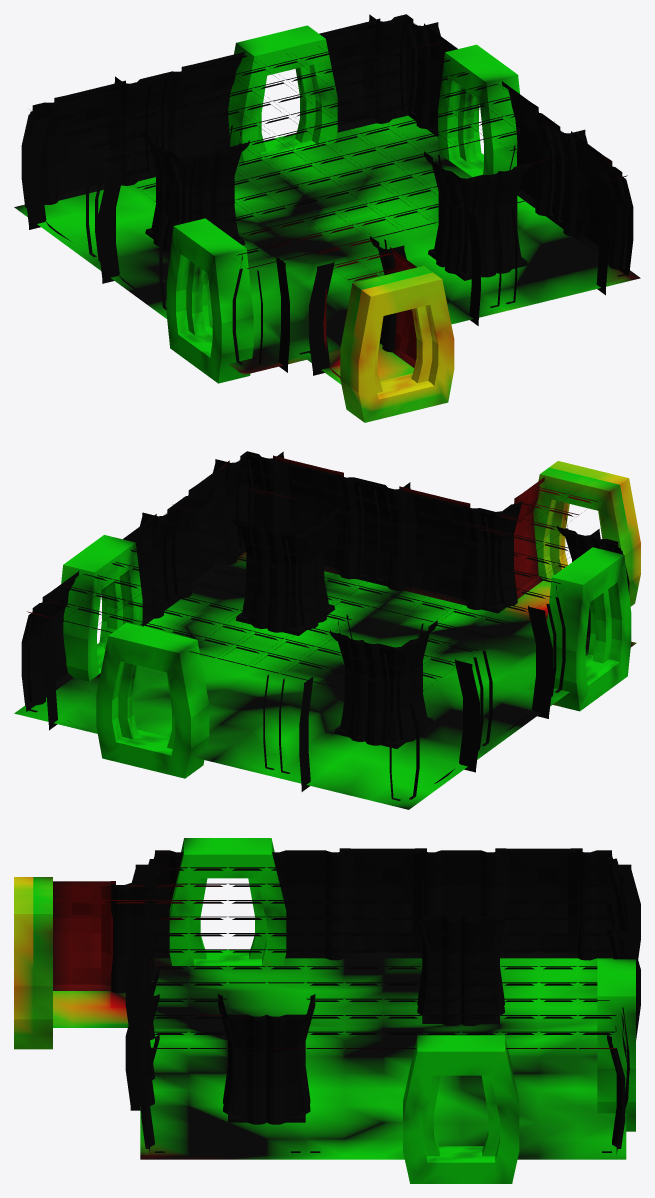
Rendered from base_entrance.glb.
3 renders of one model, top to bottom at view 1: azimuth 30°, elevation 25°; view 2: azimuth 150°, elevation 25°; view 3: azimuth 270°, elevation 25°, orthographic. The views are drawn at different scales.
Visible parts, largest first — view 1: Base_Entrance_Floor, Base_Entrance_Wall_Panels, Base_Entrance_Doorframes, Base_Entrance_Stone_Wall, Base_Entrance_Ceiling; view 2: Base_Entrance_Floor, Base_Entrance_Wall_Panels, Base_Entrance_Doorframes, Base_Entrance_Stone_Wall, Base_Entrance_Ceiling; view 3: Base_Entrance_Floor, Base_Entrance_Wall_Panels, Base_Entrance_Doorframes, Base_Entrance_Stone_Wall, Base_Entrance_Ceiling.
Boxes of the visible parts, x1,y1,x2,y2 form: Base_Entrance_Floor: [14, 115, 640, 384]; Base_Entrance_Wall_Panels: [21, 14, 633, 375]; Base_Entrance_Doorframes: [166, 25, 519, 422]; Base_Entrance_Stone_Wall: [39, 18, 612, 377]; Base_Entrance_Ceiling: [33, 16, 627, 281]; Base_Entrance_Floor: [14, 552, 636, 809]; Base_Entrance_Wall_Panels: [21, 451, 629, 800]; Base_Entrance_Doorframes: [61, 461, 640, 778]; Base_Entrance_Stone_Wall: [42, 455, 544, 783]; Base_Entrance_Ceiling: [27, 453, 618, 704]; Base_Entrance_Floor: [53, 958, 626, 1159]; Base_Entrance_Wall_Panels: [111, 850, 640, 1154]; Base_Entrance_Doorframes: [14, 838, 635, 1183]; Base_Entrance_Stone_Wall: [53, 848, 629, 1112]; Base_Entrance_Ceiling: [53, 852, 616, 1048].
Size of what is drawn, in the model's own units: 13.25 by 3.75 by 16.12.
